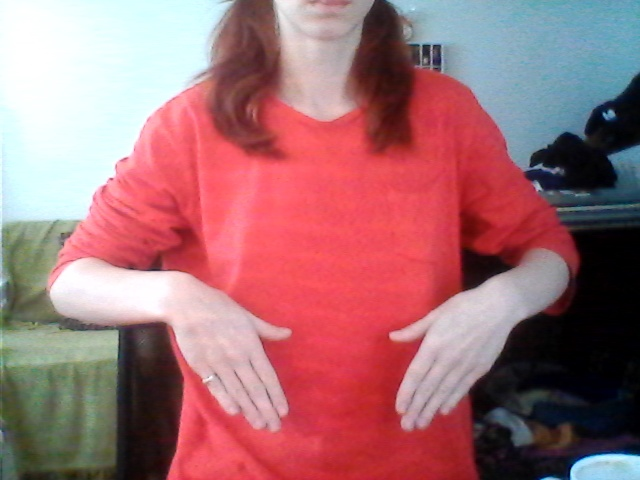zena: (155, 261, 502, 438)
